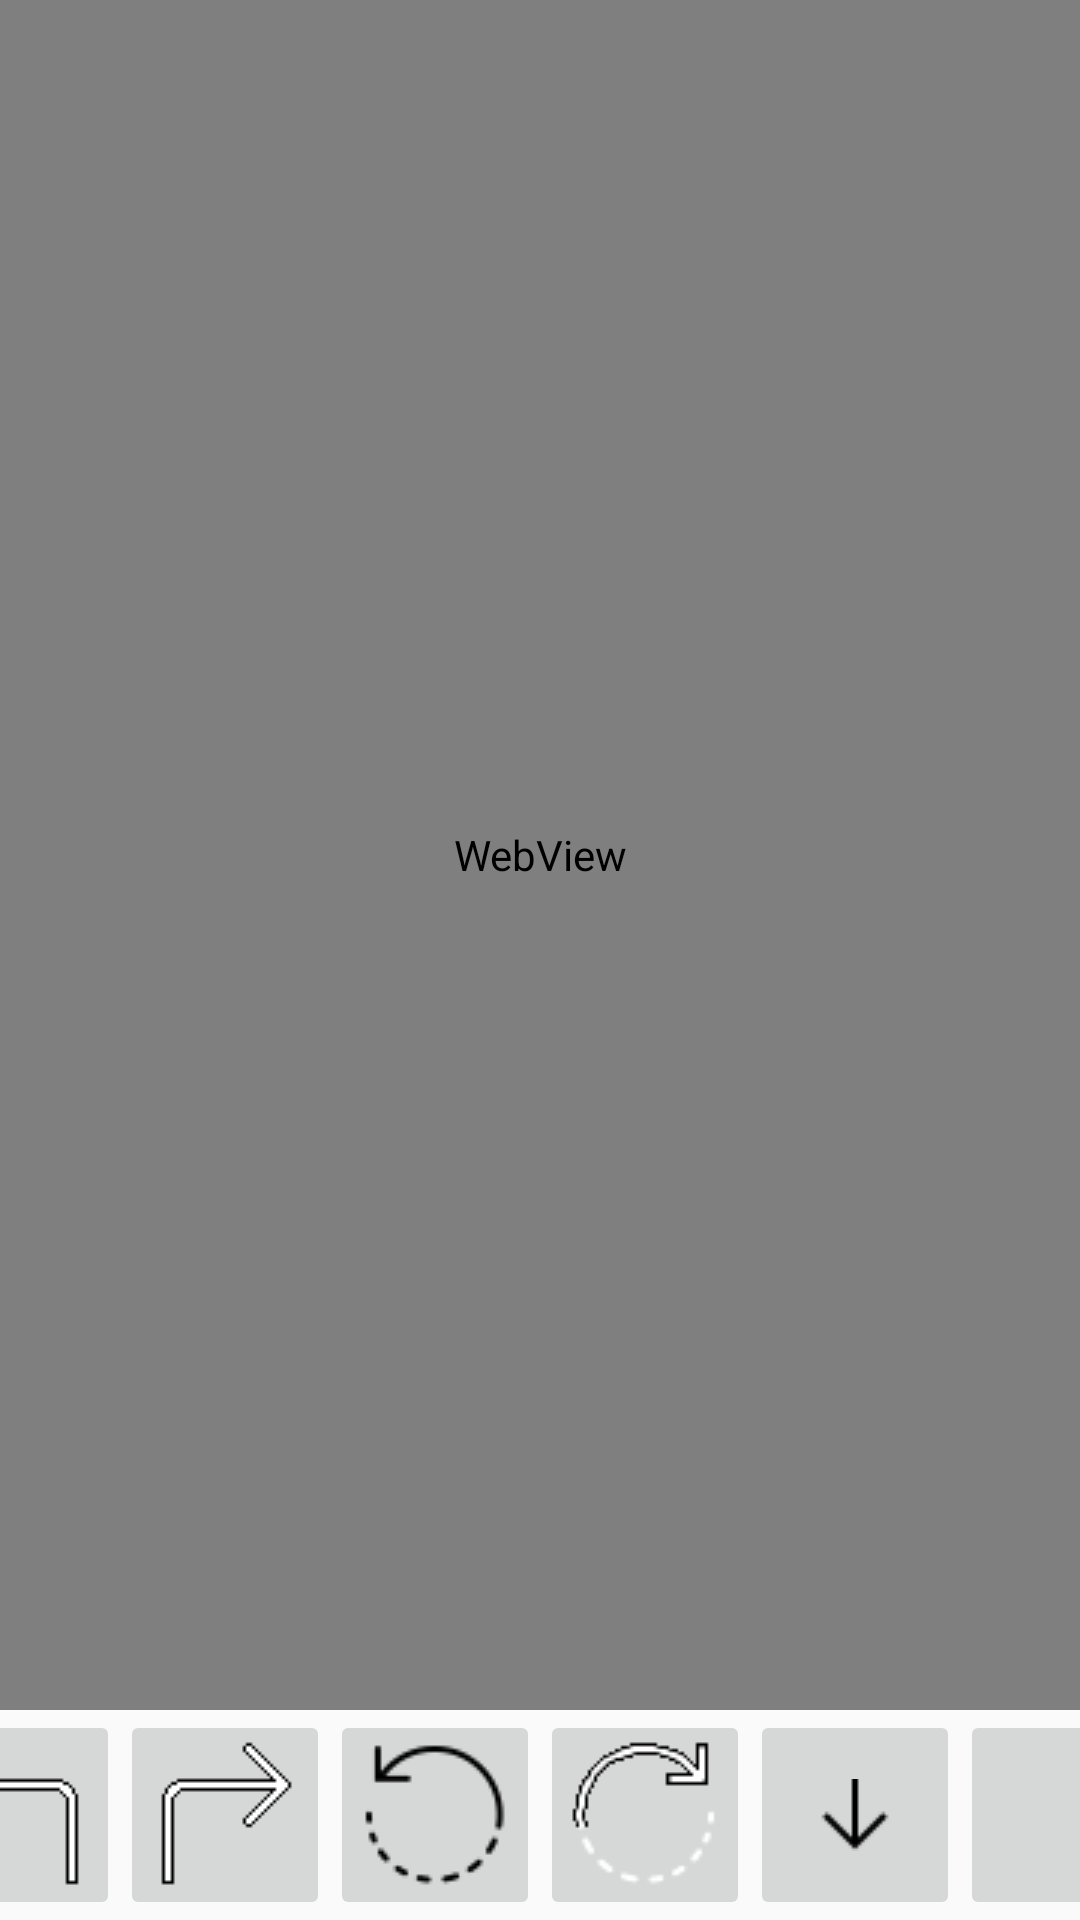

Icons on this 1080w x 1920h Android screen, each with its box as (x1, y1, x2, y2):
down: (762, 1728, 948, 1902)
right: (132, 1728, 318, 1902)
rotate anti clockwise: (342, 1728, 528, 1902)
rotate clockwise: (552, 1728, 738, 1902)
